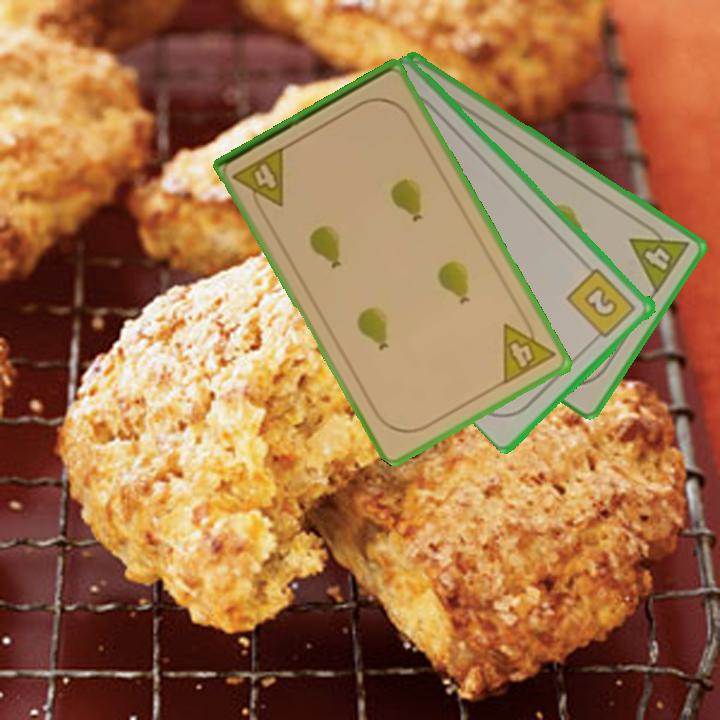2b: (563, 264, 639, 345)
4p: (626, 217, 692, 296), (499, 311, 559, 388), (229, 143, 289, 218)
